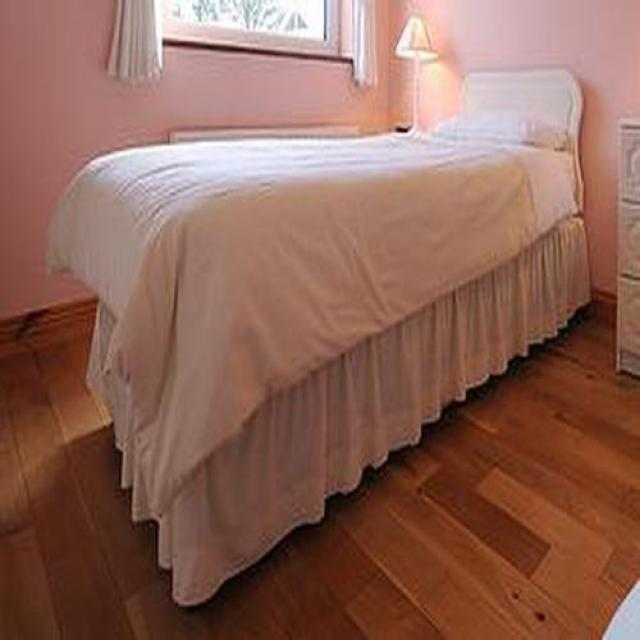bed: (46, 67, 591, 609)
